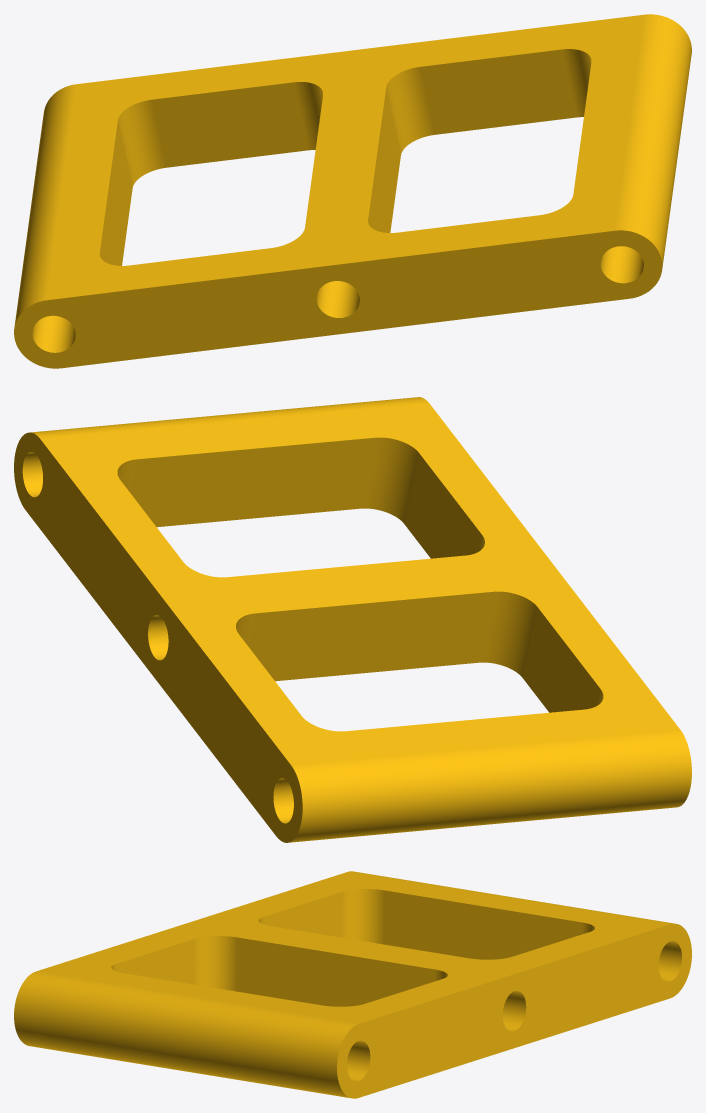
Rendered from Robot_Master Copy 1 - Part 10.gltf.
3 renders of one model, top to bottom at view 1: azimuth 30°, elevation 25°; view 2: azimuth 150°, elevation 25°; view 3: azimuth 270°, elevation 25°, orthographic. The views are drawn at different scales.
Visible parts, largest first — view 1: Part 10; view 2: Part 10; view 3: Part 10.
Part boxes in pixels (x1,y1,x2,y2): Part 10: [14, 14, 691, 368]; Part 10: [14, 397, 691, 842]; Part 10: [14, 871, 691, 1098].
Bounding box in the file's own units: 0.0475 × 0.0141 × 0.0445.
